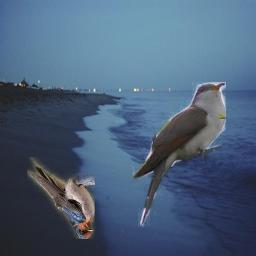Cuckoo: (132, 82, 226, 227)
Swallow: (27, 157, 95, 239)
